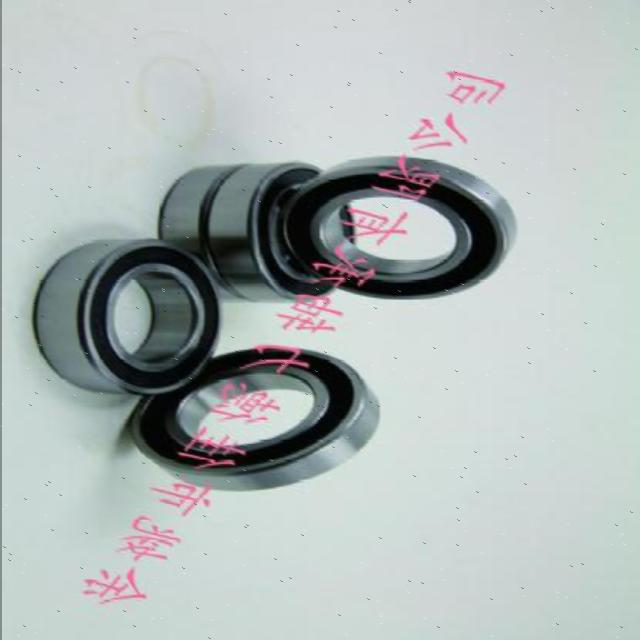Bearing: (125, 349, 382, 492), (283, 161, 519, 301), (31, 236, 220, 392), (204, 154, 354, 308), (158, 160, 252, 304)
